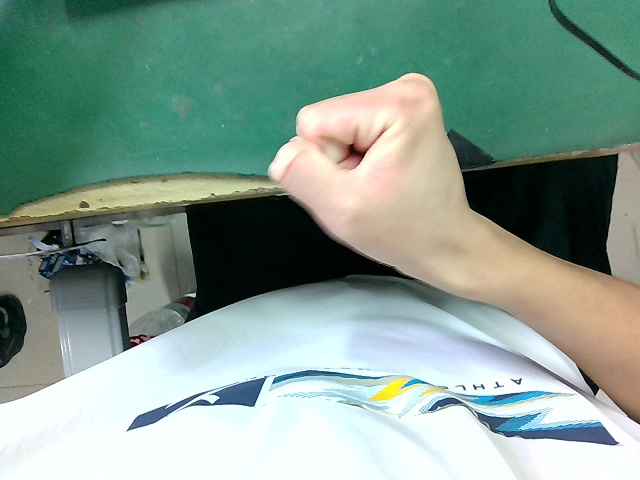stone: (267, 66, 488, 296)
